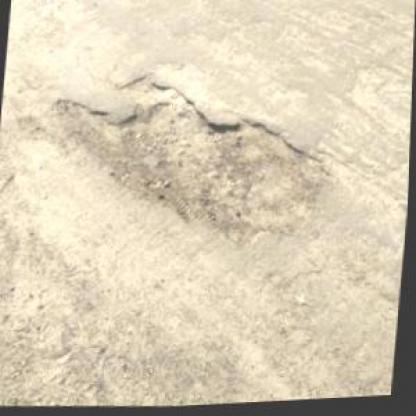pothole: (40, 60, 348, 272)
